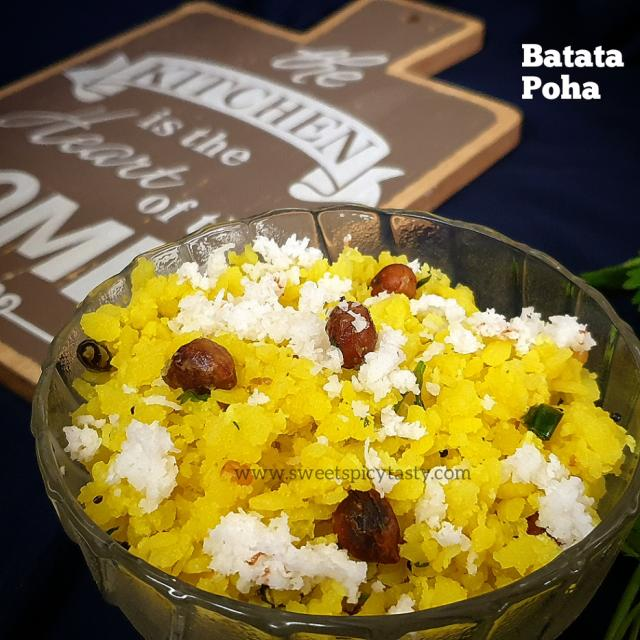UPMA: (61, 230, 633, 606)
